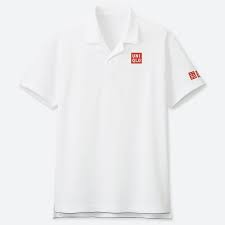C_polo shirt: (20, 8, 211, 215)
